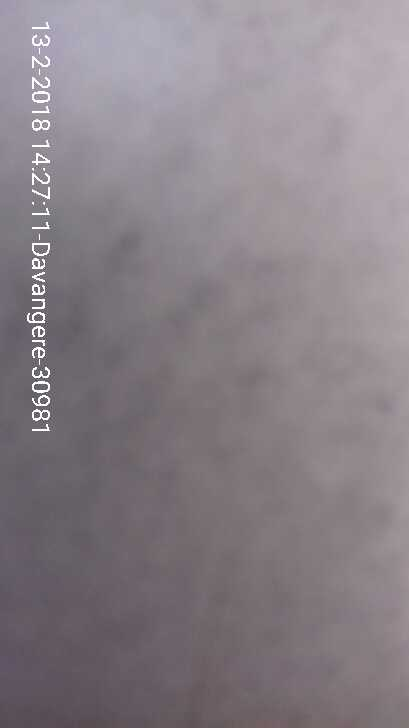reject: (93, 149, 213, 248)
